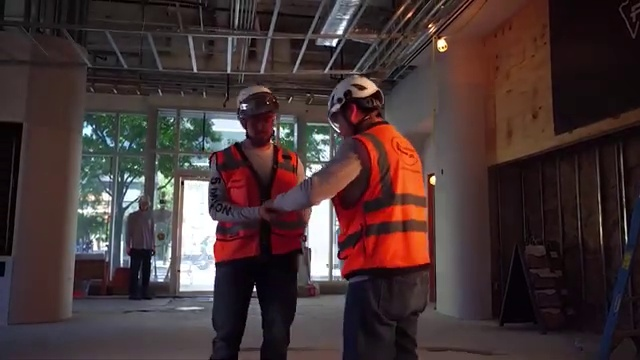helmet: (231, 83, 287, 125), (317, 76, 386, 108)
jacket: (202, 140, 319, 266), (335, 122, 430, 271)
